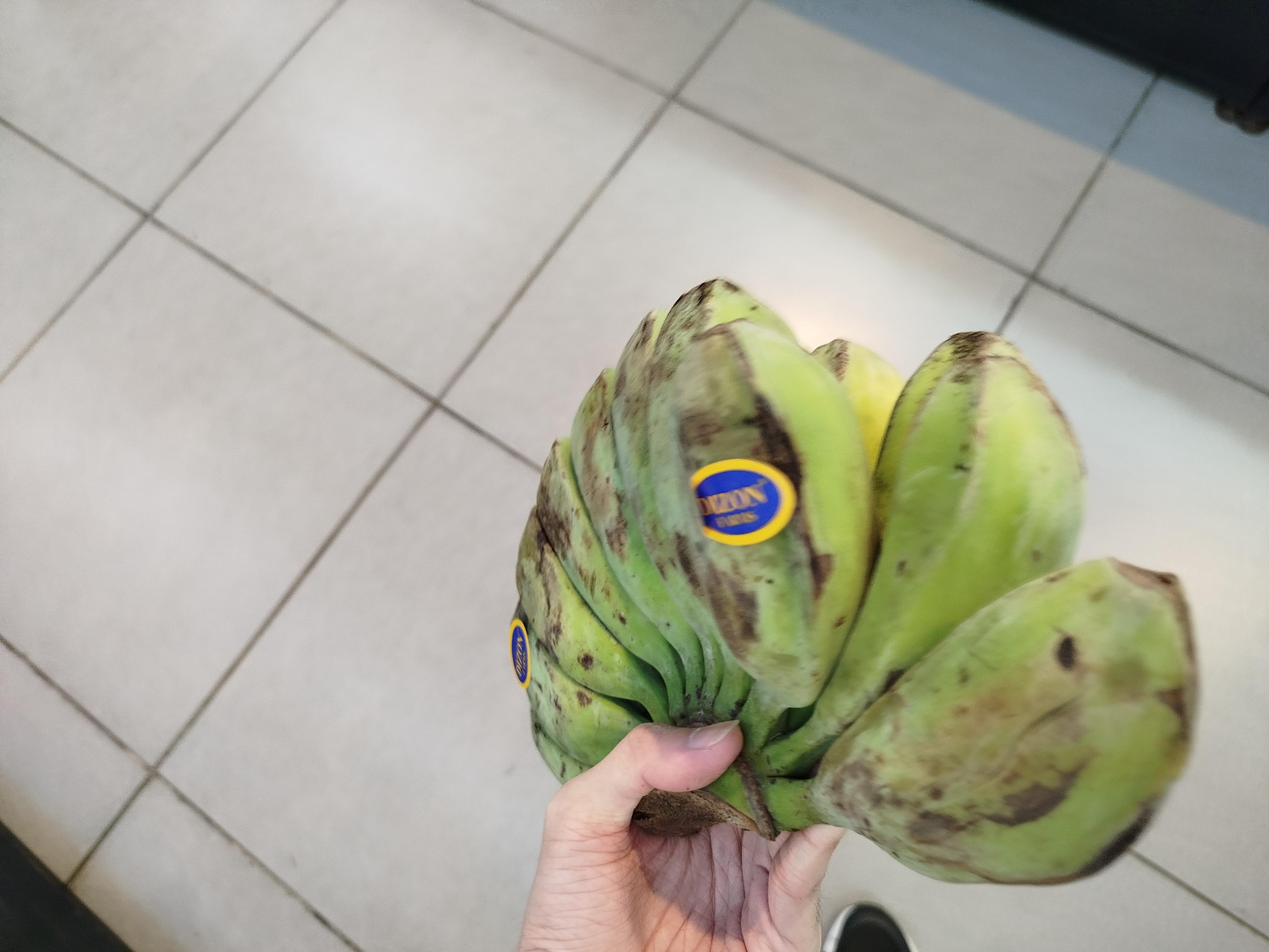underripe: (511, 279, 1198, 884)
